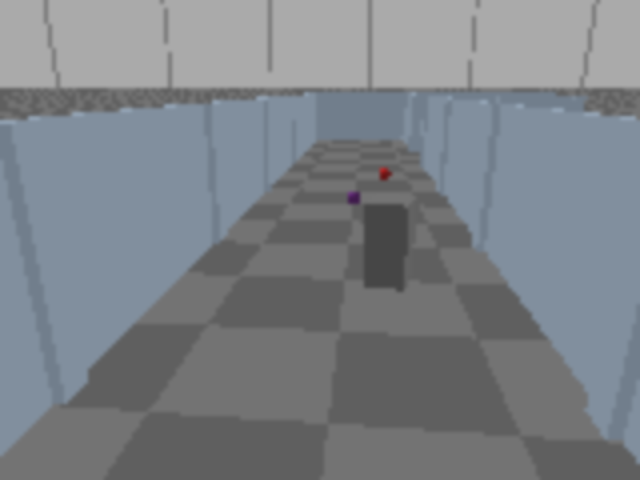obstacle: (363, 192, 417, 291)
puck: (344, 189, 364, 206)
